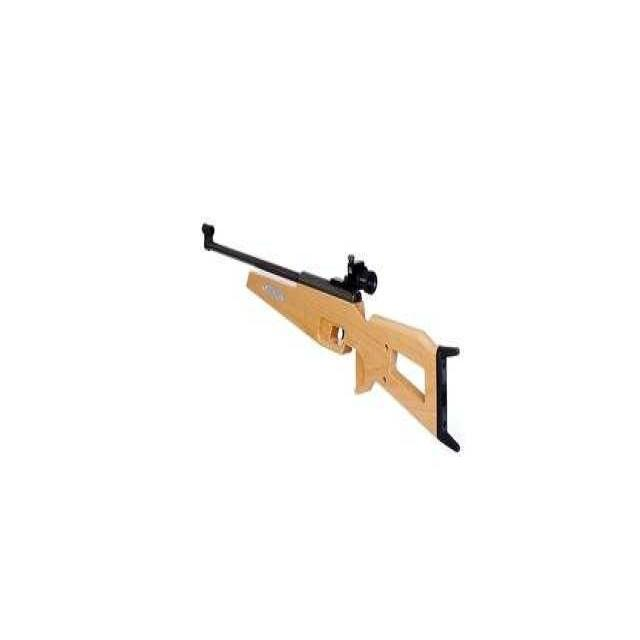heavyweapon: (195, 202, 474, 473)
